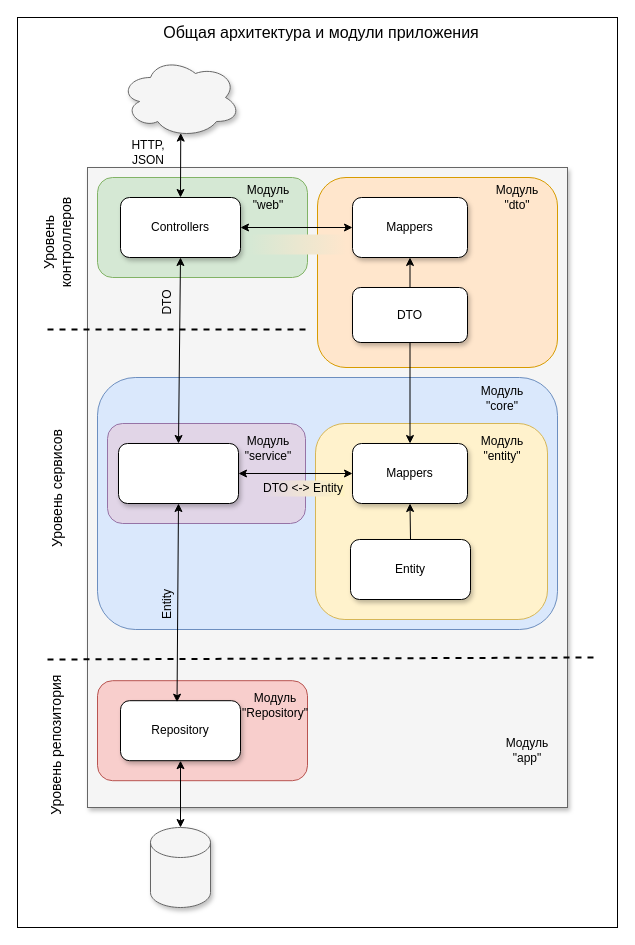
This 635x945 diagram has some shape labels left out. Here are the shapes that lost their labels. From the top down, the centre of each, then its label:
point 181,98: Clients
point 297,244: DTO <-> JSON
point 179,474: Service
point 181,868: Database
